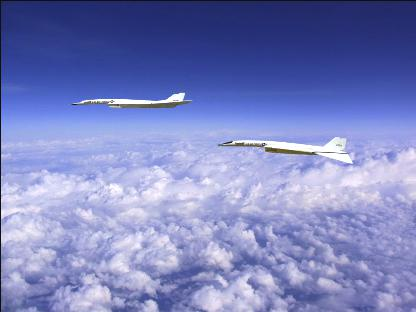U2: (216, 136, 352, 162), (66, 91, 192, 107)
